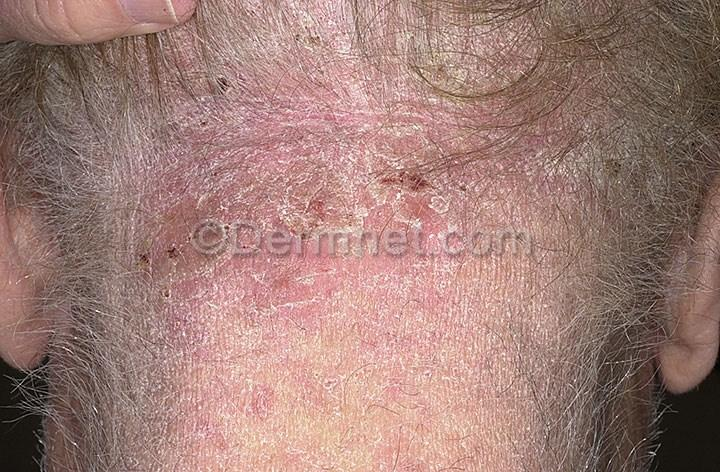Eczema: (108, 177, 265, 312), (339, 108, 498, 229), (232, 138, 394, 241), (265, 262, 431, 336), (189, 50, 276, 118), (284, 4, 361, 71), (583, 120, 644, 192)
